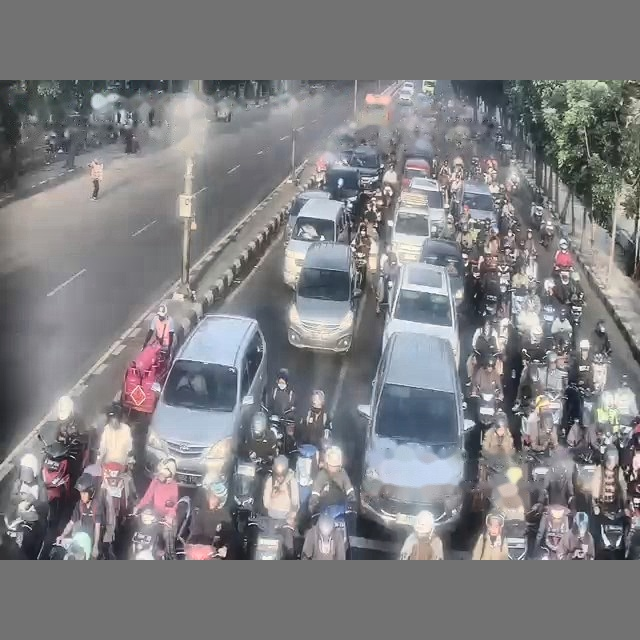Bis: (422, 80, 435, 95)
Mobil: (358, 333, 473, 530), (145, 314, 266, 487), (287, 242, 361, 352), (383, 263, 459, 364), (420, 237, 464, 307), (387, 199, 434, 262), (285, 189, 329, 243), (406, 177, 448, 230), (349, 146, 383, 192), (460, 180, 496, 222), (214, 100, 231, 122), (397, 88, 413, 105)
Motor: (130, 507, 171, 559), (540, 220, 554, 248)
